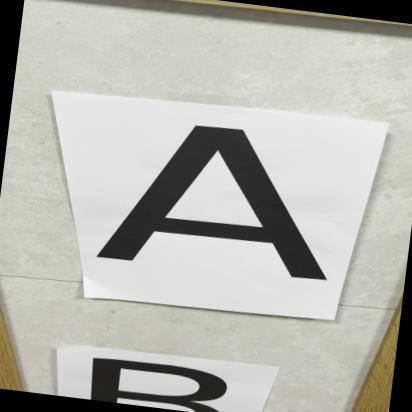seat: (80, 106, 356, 296)
